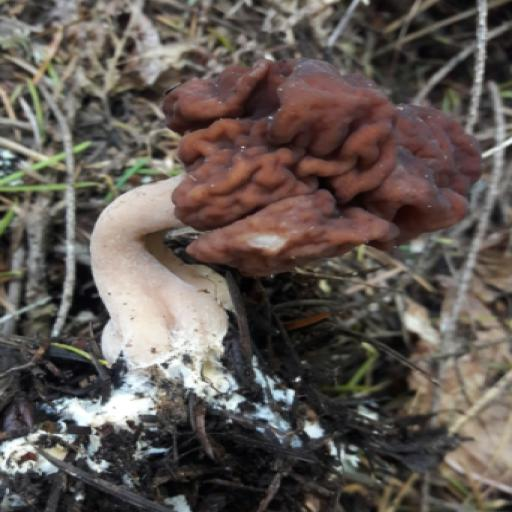False Morel: (125, 25, 489, 321)
